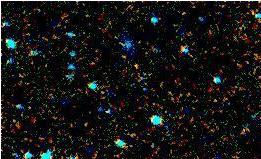star: (106, 43, 136, 73)
